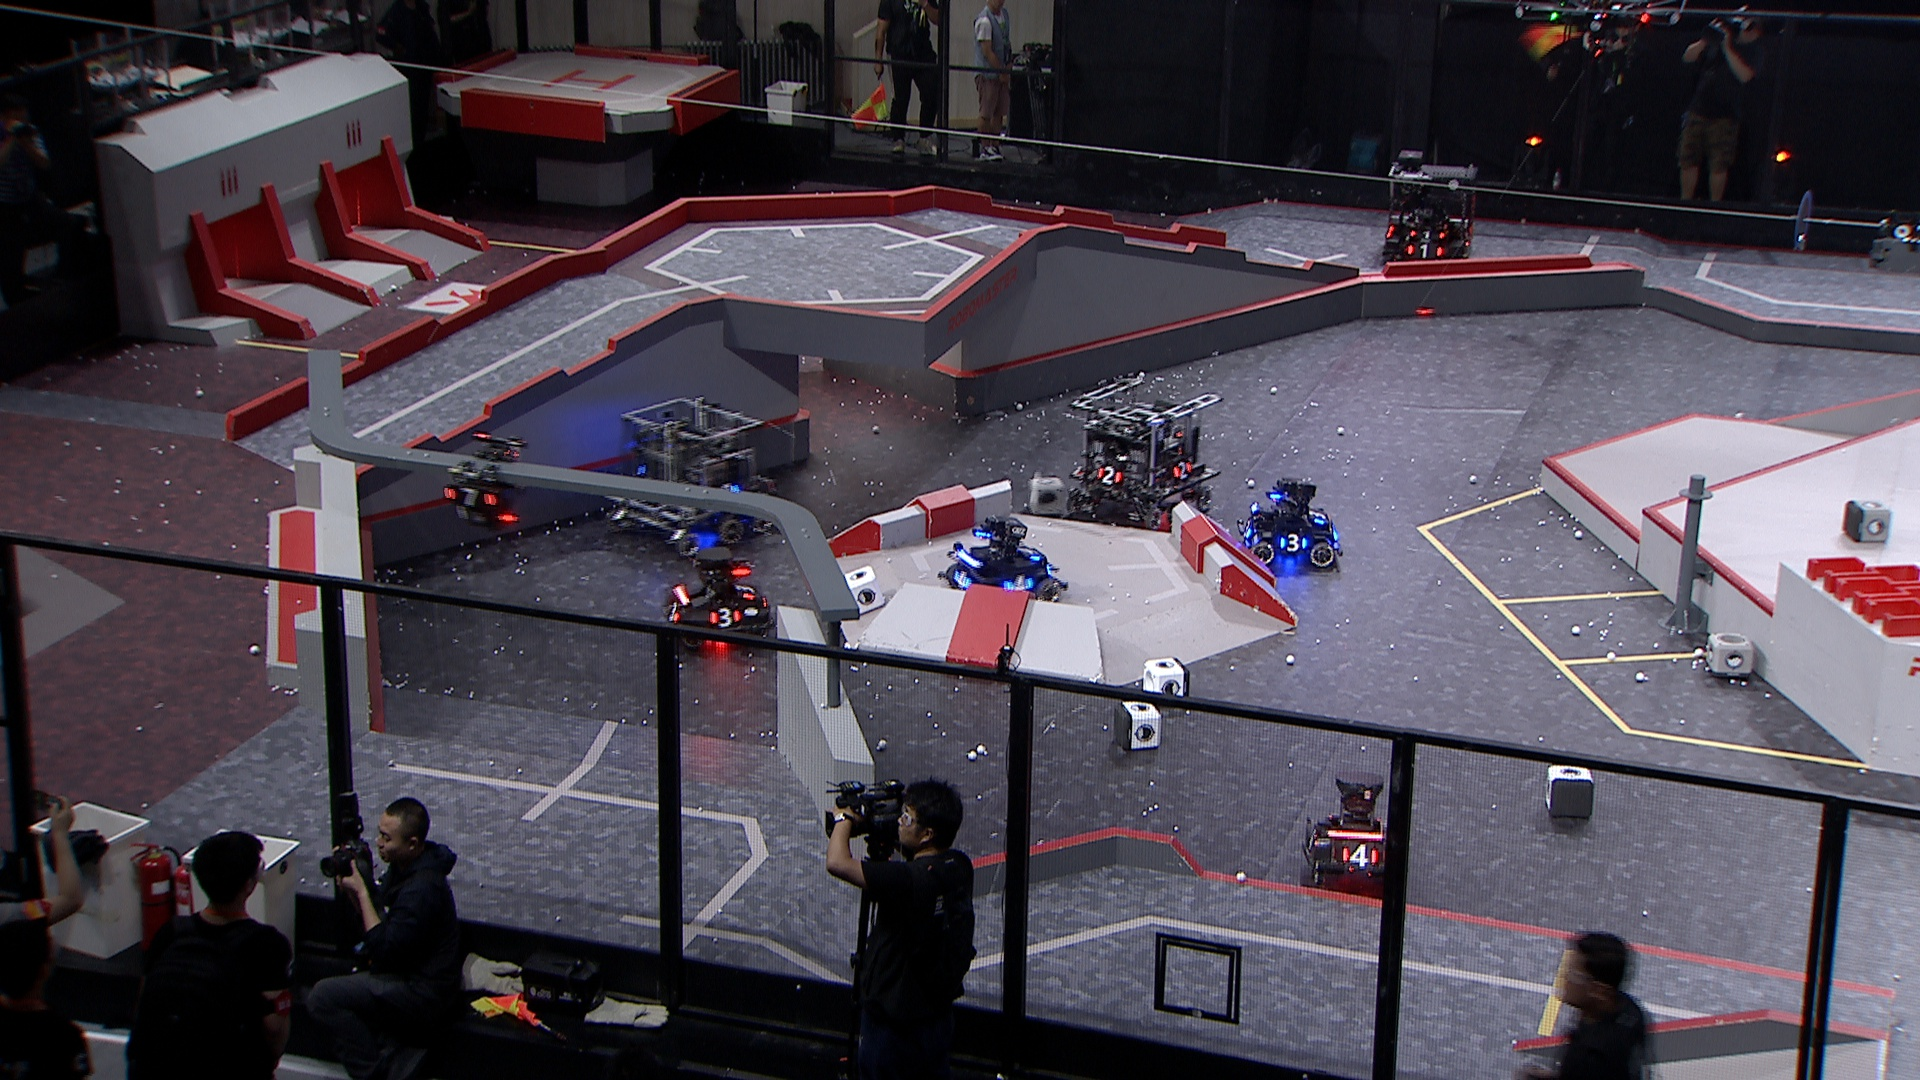armor: (443, 487, 498, 509), (1342, 844, 1381, 870), (709, 607, 742, 629), (1404, 243, 1443, 258), (1280, 533, 1311, 553), (1096, 465, 1124, 487), (1005, 575, 1036, 593), (1172, 458, 1193, 483), (953, 568, 973, 593), (1408, 228, 1448, 240), (1021, 546, 1044, 564), (735, 583, 760, 600), (1309, 509, 1329, 529), (666, 603, 684, 622), (1242, 518, 1255, 542), (1461, 229, 1476, 249)
car: (605, 398, 778, 560), (1063, 375, 1220, 531), (1300, 773, 1410, 897), (938, 512, 1068, 611), (662, 549, 782, 654), (1381, 148, 1480, 266), (1236, 477, 1342, 570)
watcher: (442, 433, 526, 527)
